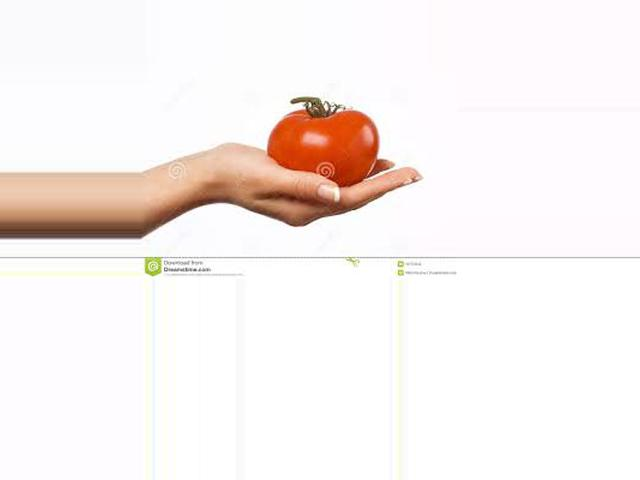tomato: (267, 109, 379, 186)
